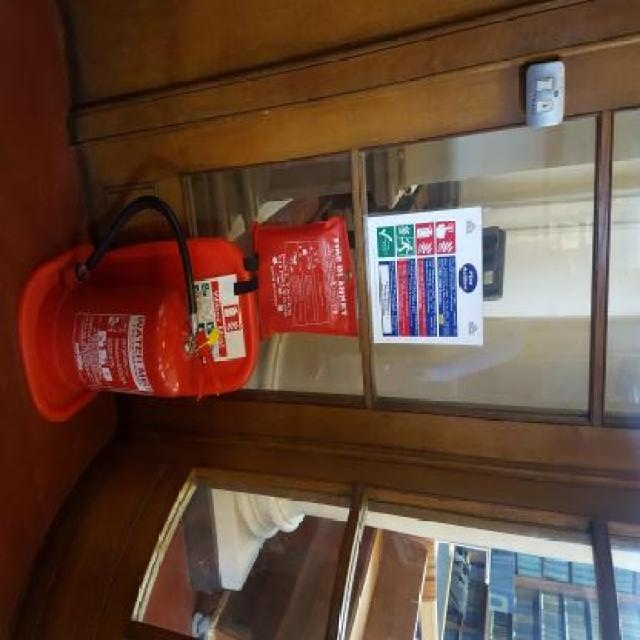fire extinguisher: (38, 193, 217, 418)
